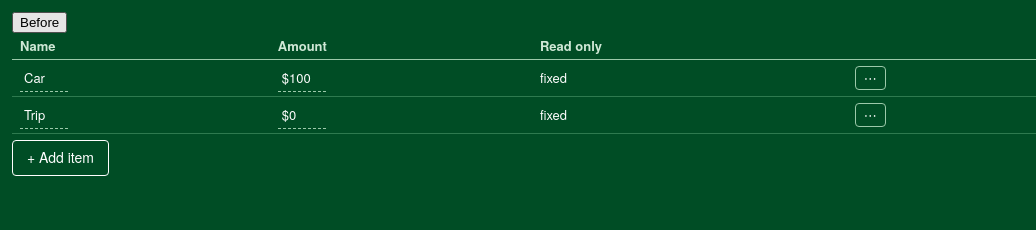
it: EditableTable › duplicates a row, putting the copy after the original
This screenshot has width=1036, height=230.
Click the button named "Actions for Car": (870, 78) [855,66,886,90]
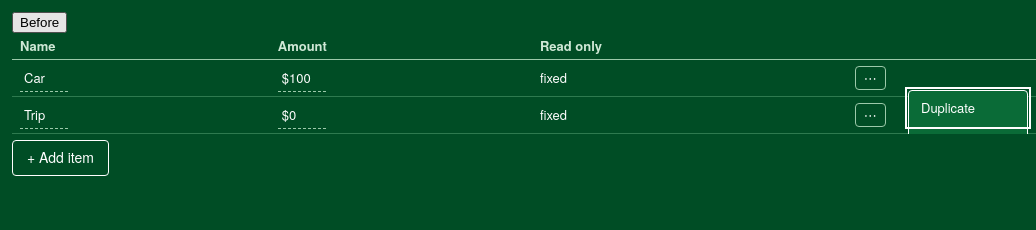
Click the menu item "Duplicate": (968, 108) [909,91,1027,126]
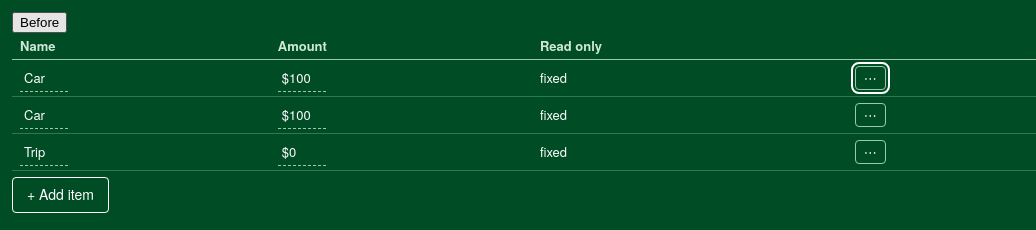
Expected: the buttons "Name for " read "Car", "Car", "Trip", in this order, [20,64,68,92]; [20,101,68,129]; [20,138,68,166]
Expected: the menu is gone
